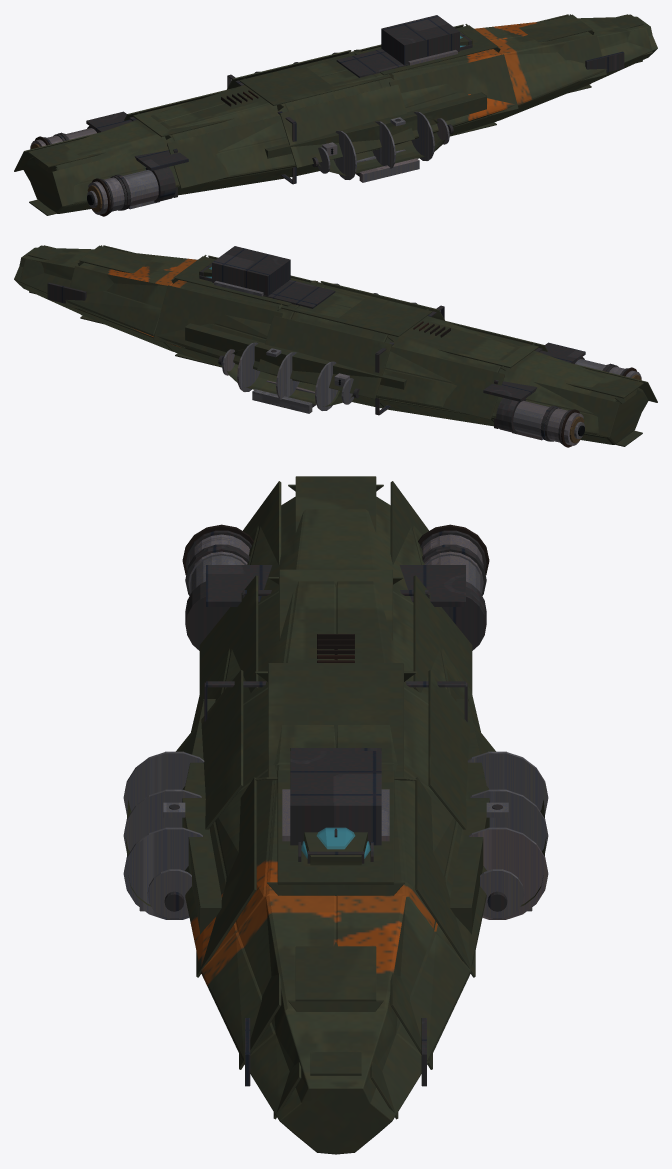
File: mule_production_v1_lod2.glb
The picture shows the model from 3 angles, top to bottom: view 1: azimuth 30°, elevation 25°; view 2: azimuth 150°, elevation 25°; view 3: azimuth 270°, elevation 25°; orthographic projection. The views are drawn at different scales.
Visible parts, largest first — view 1: LOD2_Hull, LOD2_Armor, LOD2_Mechanical, LOD2_Radiator; view 2: LOD2_Hull, LOD2_Armor, LOD2_Mechanical, LOD2_Radiator; view 3: LOD2_Hull, LOD2_Mechanical, LOD2_Armor, LOD2_Radiator.
Boxes of the visible parts, <box> form: LOD2_Hull: <box>14,14,657,215</box>; LOD2_Armor: <box>43,15,624,213</box>; LOD2_Mechanical: <box>30,50,457,214</box>; LOD2_Radiator: <box>35,90,258,216</box>; LOD2_Hull: <box>14,245,657,446</box>; LOD2_Armor: <box>47,246,628,444</box>; LOD2_Mechanical: <box>214,281,641,445</box>; LOD2_Radiator: <box>413,321,636,447</box>; LOD2_Hull: <box>125,476,546,1154</box>; LOD2_Mechanical: <box>123,534,548,919</box>; LOD2_Armor: <box>164,530,507,1086</box>; LOD2_Radiator: <box>182,524,489,662</box>.
Size of what is drawn, in the model's own units: 17.76 by 2.95 by 5.39.
Materials: 8 (8 with a texture image).
